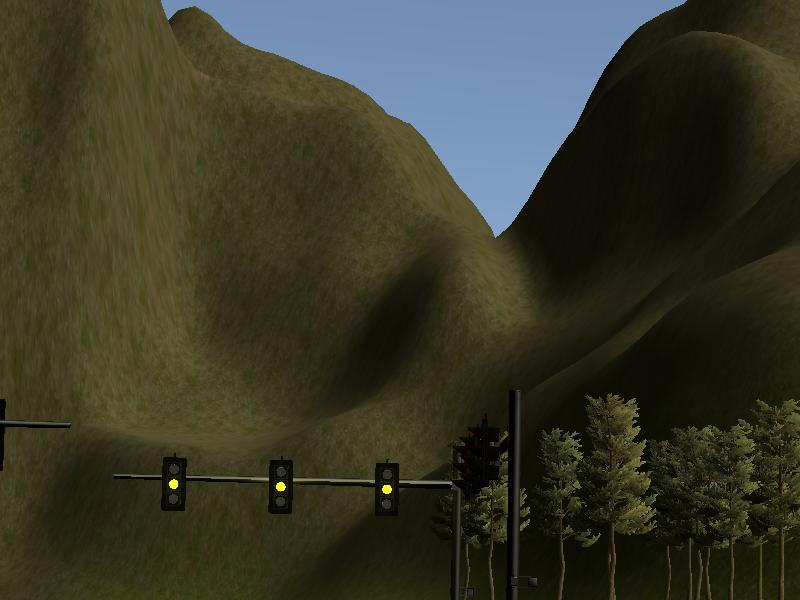Yellow: (159, 454, 188, 513), (268, 457, 294, 516), (372, 461, 398, 519)
